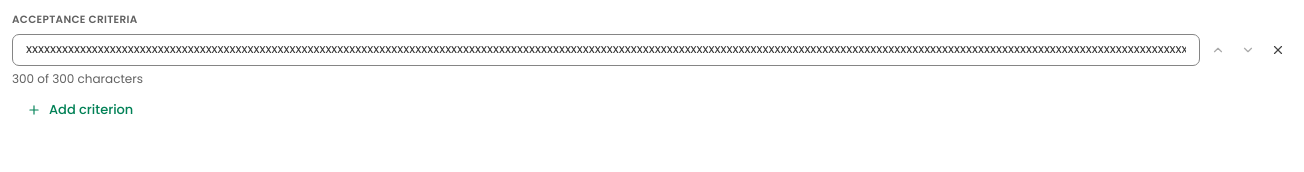
Test case: CriteriaEditor › flags a criterion past 300 characters, counting its trimmed text, and keeps its text
The image size is (1304, 172).
Type "y" into the field named "Criterion 1" at (606, 50), box [12,34,1200,66]
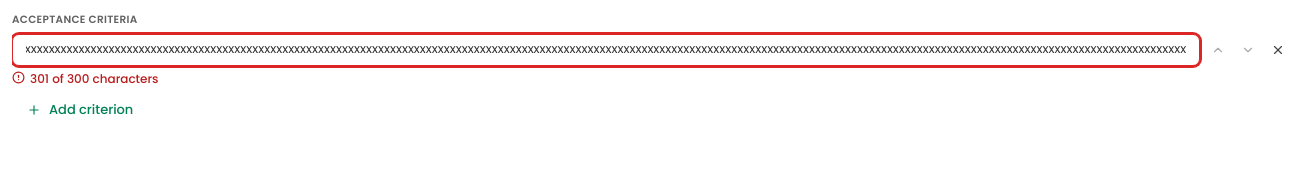
Check: the text "301 of 300 characters" is shown, box [12,70,158,88]
